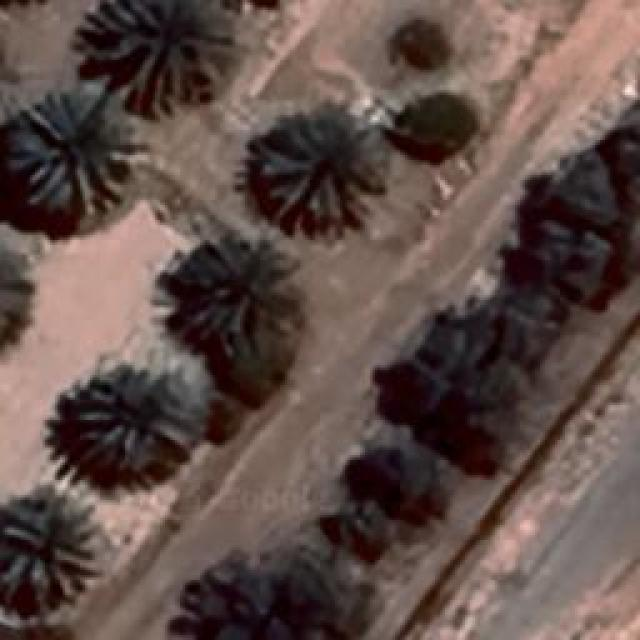PalmTree: (94, 125, 235, 295), (5, 84, 130, 218), (250, 110, 388, 225), (95, 0, 238, 110), (72, 354, 198, 468), (15, 125, 94, 292), (0, 485, 102, 600)
